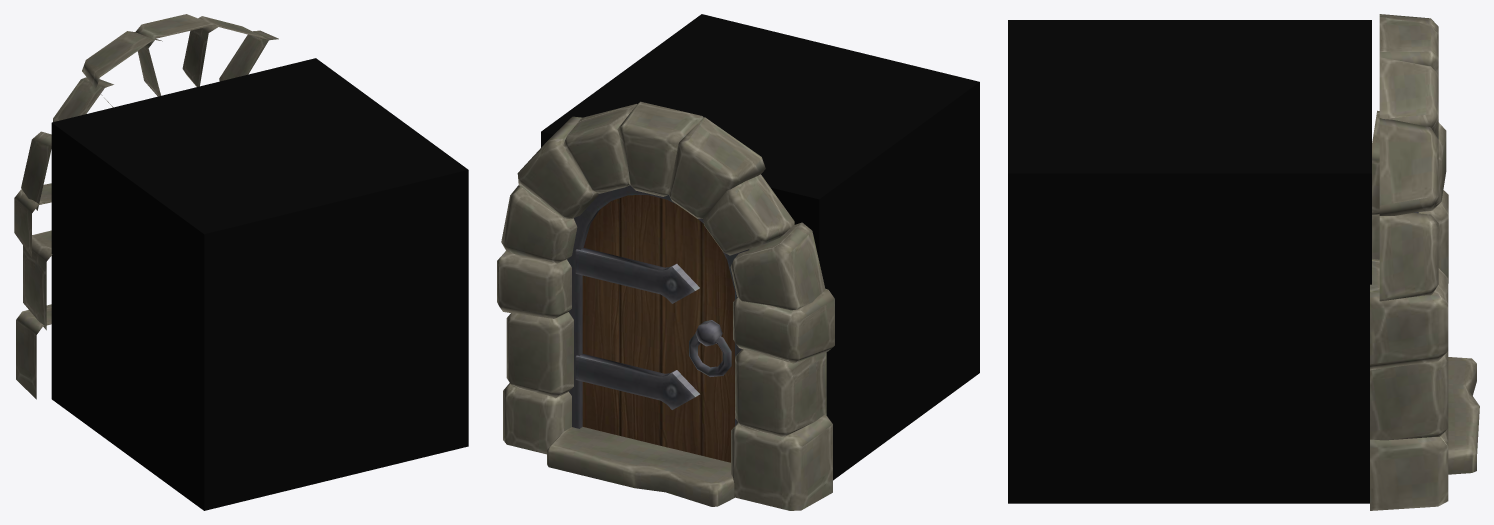
File: porta_2.glb
3 views of the same model, side by side, from view 1: azimuth 30°, elevation 25°; view 2: azimuth 150°, elevation 25°; view 3: azimuth 270°, elevation 25° (orthographic). The views are drawn at different scales.
Visible parts, largest first — view 1: Cube, doorway; view 2: Cube, doorway, door; view 3: Cube, doorway.
Part boxes in pixels (x1,y1,x2,y2): Cube: (51, 58, 468, 510); doorway: (14, 14, 278, 399); Cube: (541, 14, 979, 480); doorway: (497, 101, 834, 510); door: (575, 195, 734, 462); Cube: (1008, 20, 1371, 503); doorway: (1370, 14, 1479, 510).
Bounding box in the file's own units: 1.67 × 1.76 × 1.91.
3 materials, 2 textured.
